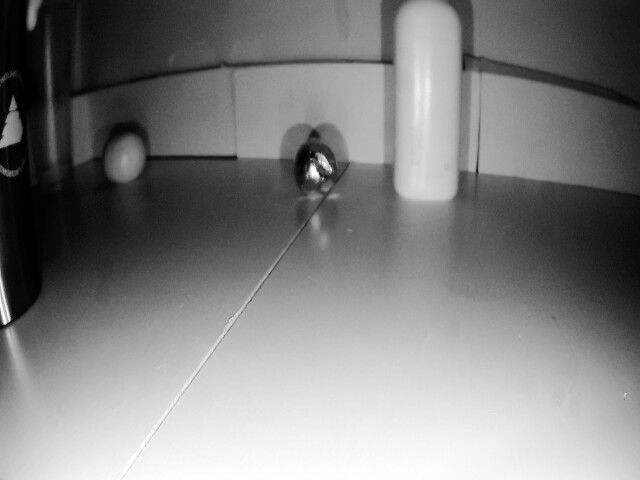black: (296, 136, 331, 201)
